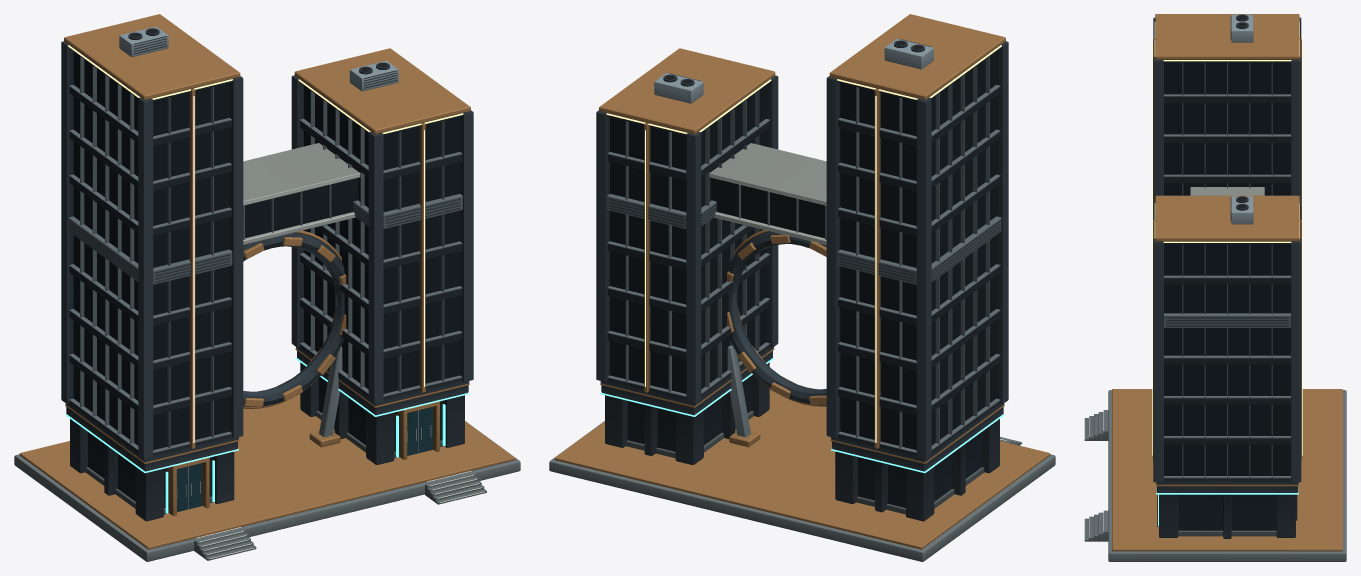
The model's file is integration-gate.lod0.glb.
3 renders of one model, left to right at view 1: azimuth 30°, elevation 25°; view 2: azimuth 150°, elevation 25°; view 3: azimuth 270°, elevation 25°, orthographic. The views are drawn at different scales.
Visible parts, largest first — view 1: structure, lobby; view 2: structure, lobby; view 3: structure, lobby.
Part boxes in pixels (x1,y1,x2,y2): structure: (14,14,520,561); lobby: (88,377,442,511); structure: (549,14,1055,561); lobby: (627,376,981,507); structure: (1084,14,1346,561); lobby: (1178,494,1276,530).
Bounding box in the file's own units: 26 × 30.37 × 17.61.
